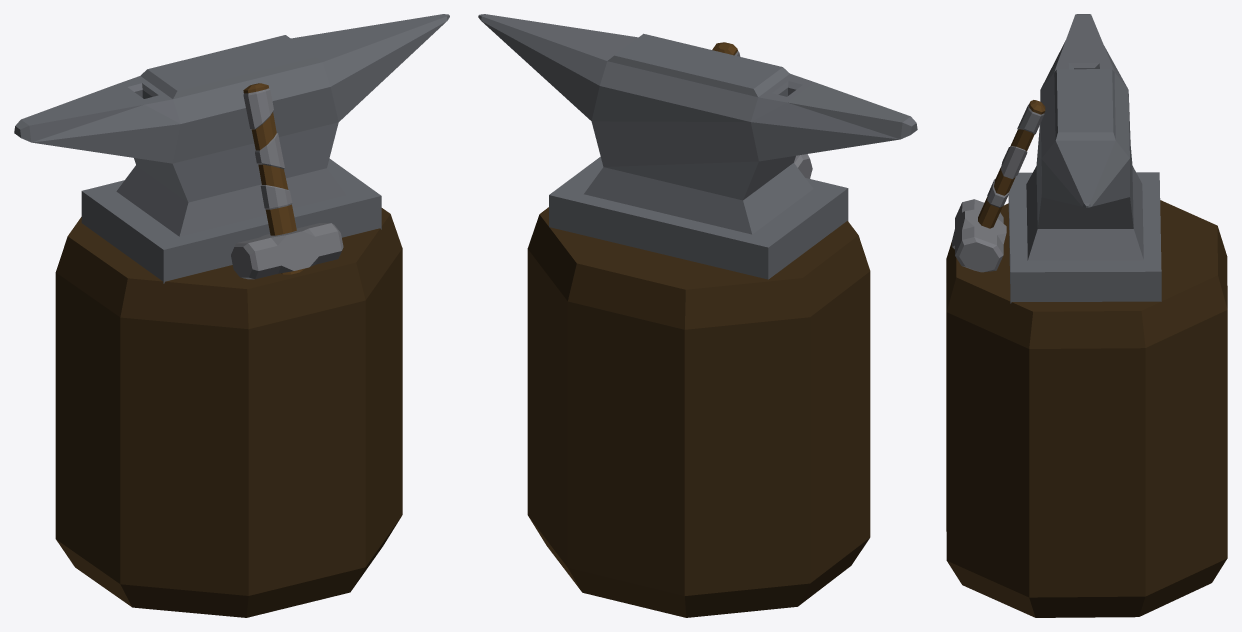
Rendered from anvil.glb.
3 renders of one model, left to right at view 1: azimuth 30°, elevation 25°; view 2: azimuth 150°, elevation 25°; view 3: azimuth 270°, elevation 25°, orthographic. The views are drawn at different scales.
Parts seen in each view (by area): view 1: SM_Metalworking_Prop_AnvilStand_012, SM_Metalworking_Prop_Hammer_01; view 2: SM_Metalworking_Prop_AnvilStand_012; view 3: SM_Metalworking_Prop_AnvilStand_012, SM_Metalworking_Prop_Hammer_01.
Part boxes in pixels (<box>): SM_Metalworking_Prop_AnvilStand_012: <box>14,14,449,617</box>; SM_Metalworking_Prop_Hammer_01: <box>231,83,343,279</box>; SM_Metalworking_Prop_AnvilStand_012: <box>478,14,917,617</box>; SM_Metalworking_Prop_AnvilStand_012: <box>946,14,1227,617</box>; SM_Metalworking_Prop_Hammer_01: <box>952,100,1045,272</box>.
Bounding box in the file's own units: 0.7415 × 0.8073 × 0.447.
Materials: 2 (2 with a texture image).
